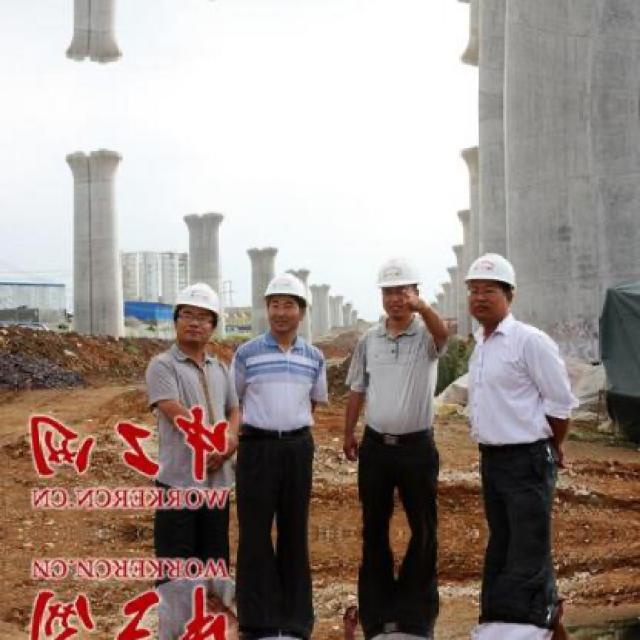helmet: (457, 244, 525, 332), (371, 239, 438, 325), (163, 268, 229, 355), (261, 267, 314, 338)
